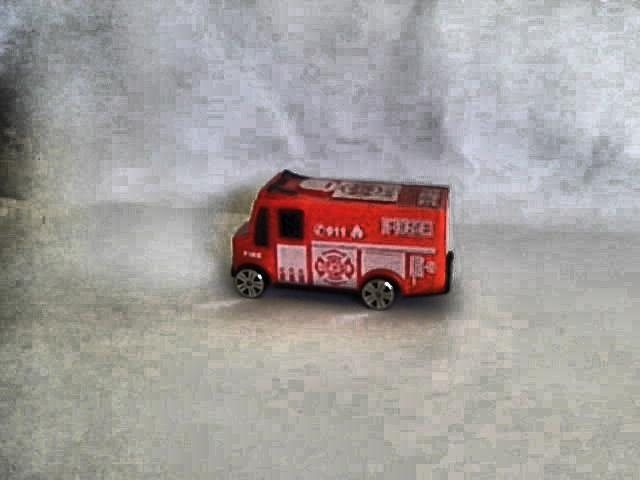fire_truck: (224, 166, 454, 311), (230, 218, 256, 287)
